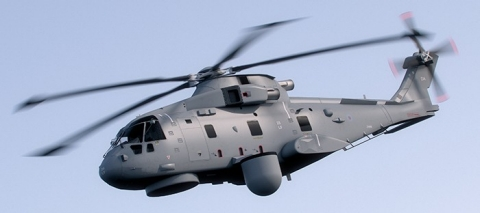Merlin: (15, 7, 466, 200)
